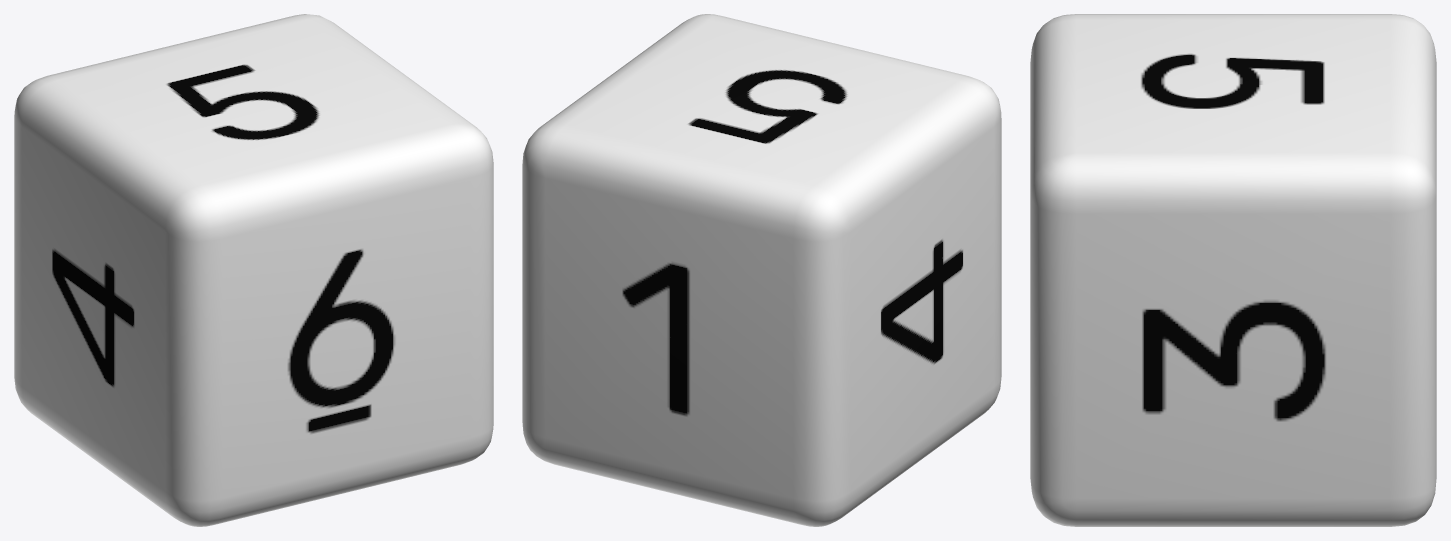
The model's file is Dado6.FBX.
3 views of the same model, side by side, from view 1: azimuth 30°, elevation 25°; view 2: azimuth 150°, elevation 25°; view 3: azimuth 270°, elevation 25° (orthographic). The views are drawn at different scales.
Parts seen in each view (by area): view 1: Dado6; view 2: Dado6; view 3: Dado6.
Part boxes in pixels (box(x1,y1,x2,y2)): Dado6: box(14, 14, 493, 526); Dado6: box(522, 14, 1001, 526); Dado6: box(1030, 14, 1436, 526).
Size of the model in its own units: 194 by 194 by 194.
